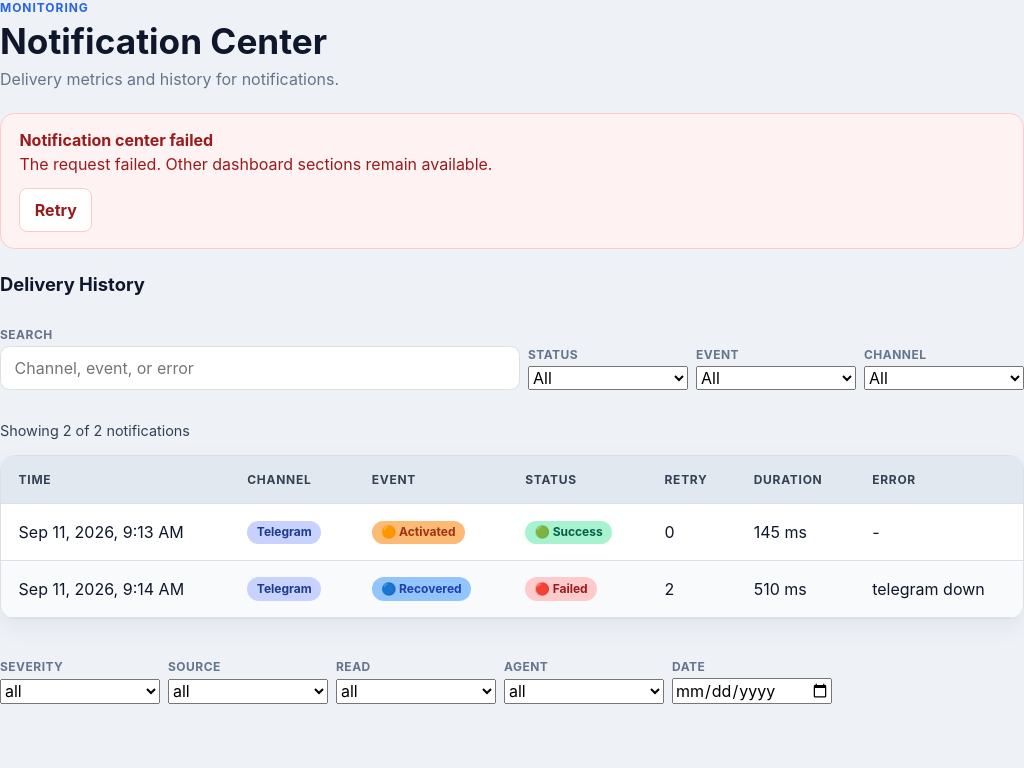
Notification Center page › retries after an error
Check: the text "Notification center failed" is shown, box [19,130,213,150]
Click the button with aria-label "Retry section": (56, 210) [19,188,92,232]
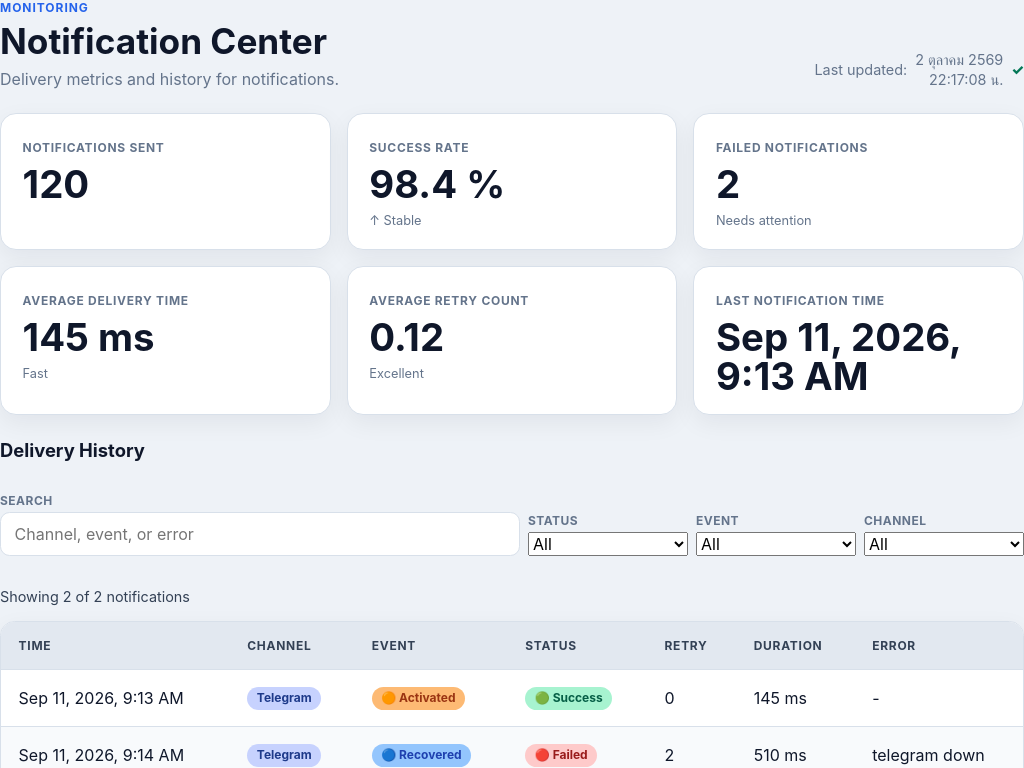
Check: the element labelled "Success Rate 98.4 % ↑ Stable" is shown, box [347,113,677,250]
